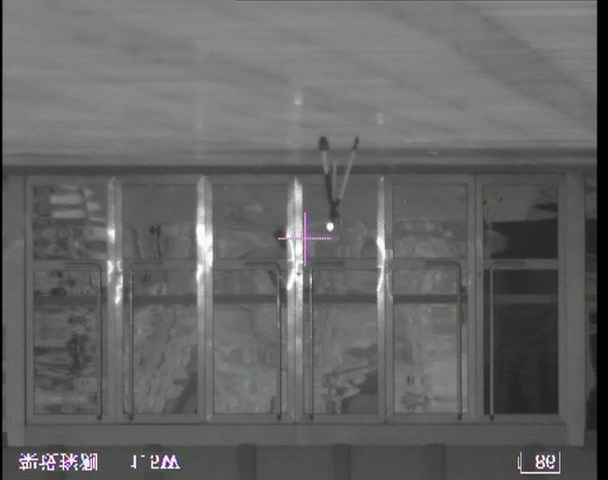my: (325, 221, 334, 233)
